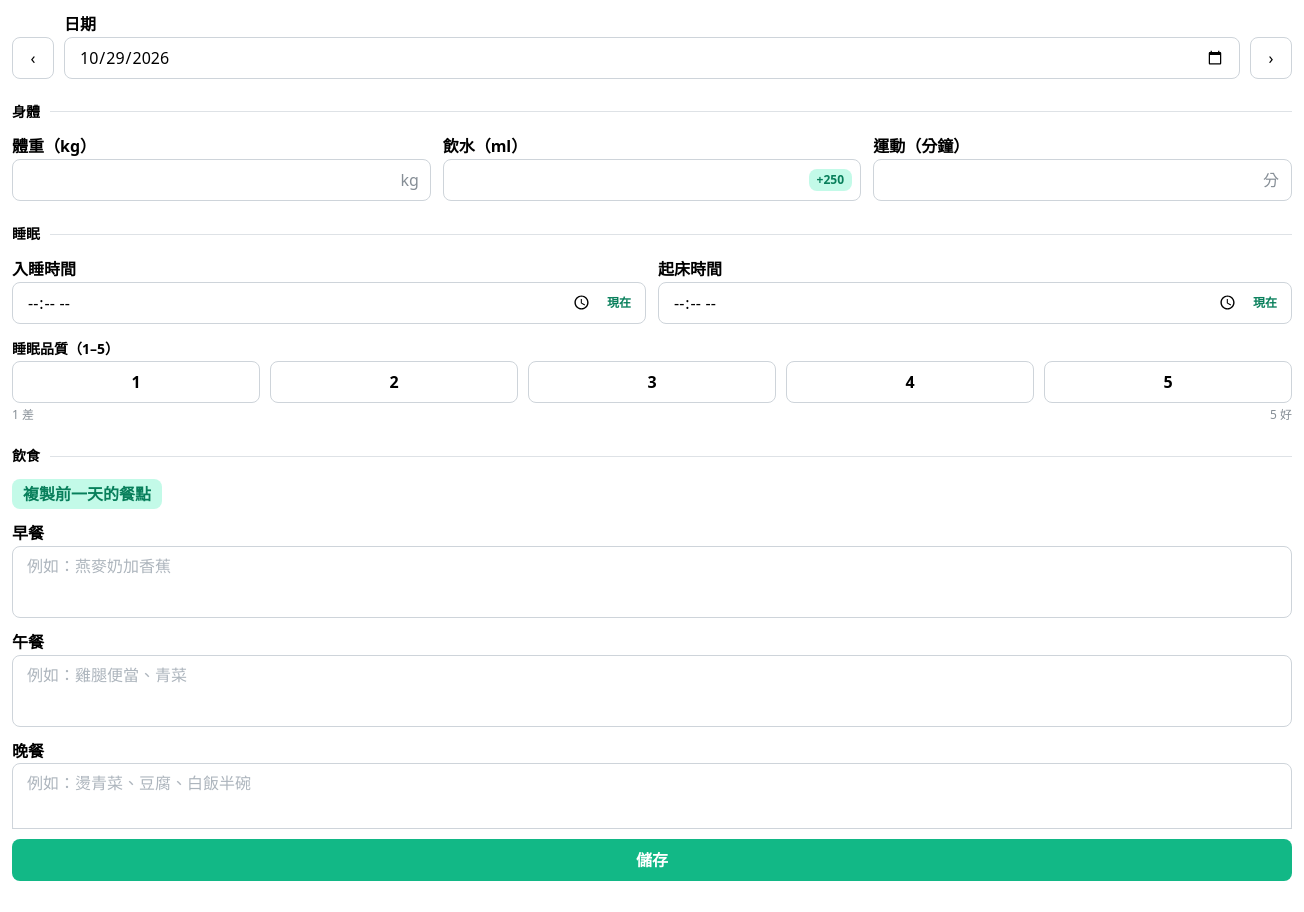
EntryForm：快速輸入 › 複製前一天的餐點 › 已經打了字的餐別不會被蓋掉
The image size is (1304, 912).
Type "今天的早餐" into the text box labelled "早餐".
click(652, 582); type("今天的早餐")  # box [12,546,1292,618]
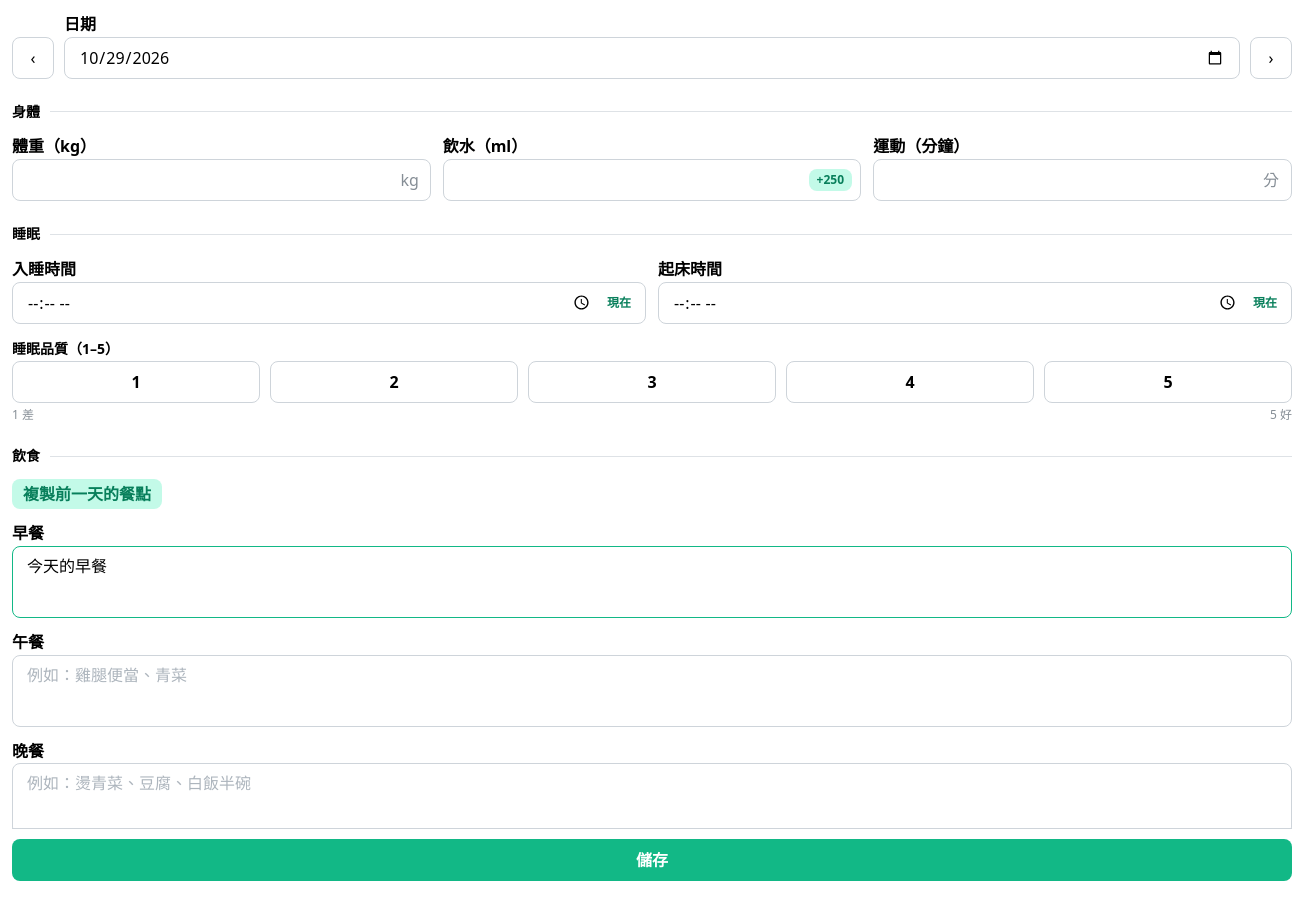
Click the button "複製前一天的餐點".
click(87, 494)  # box [12,479,162,509]
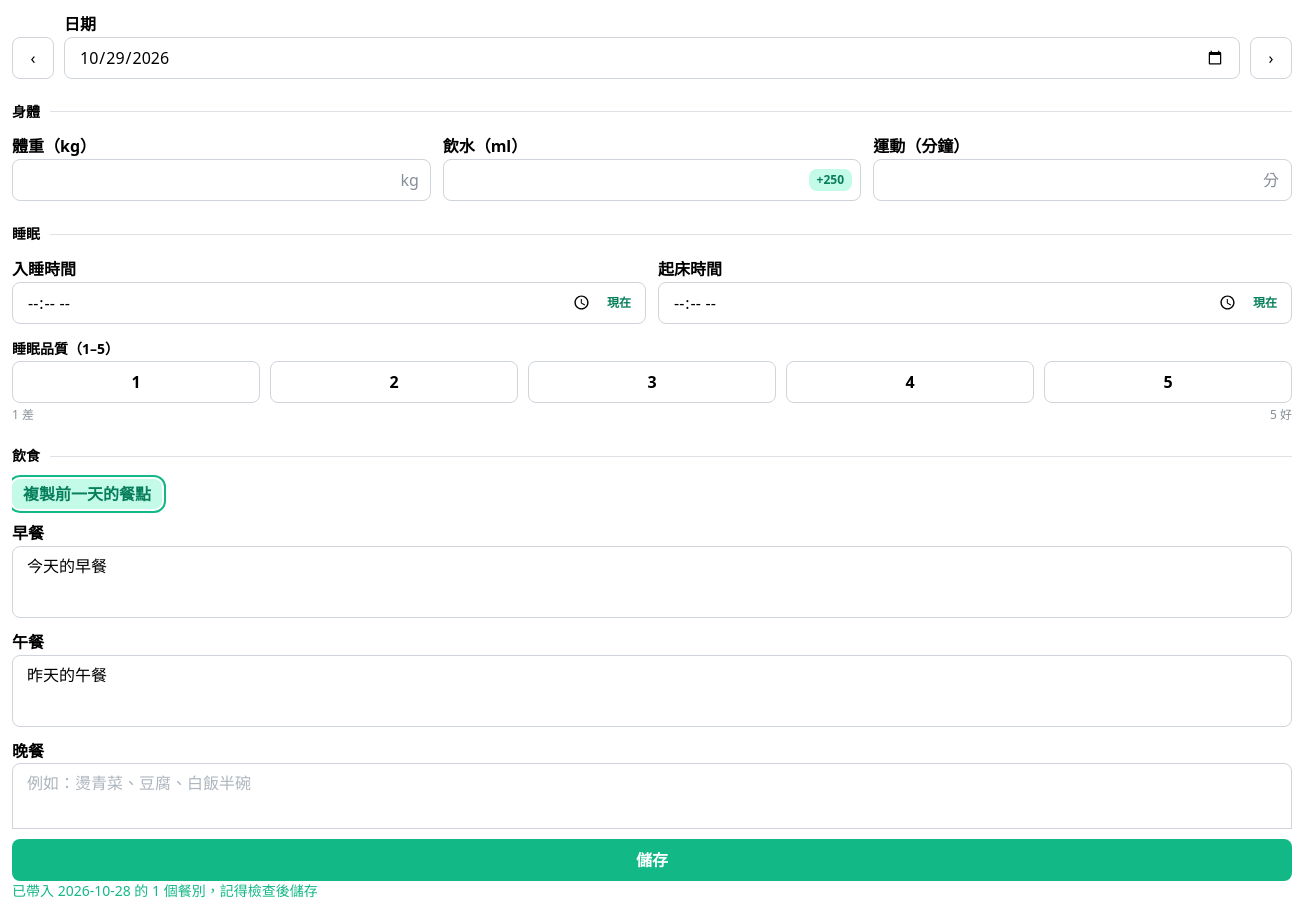
Expected: the text box labelled "午餐" holds "昨天的午餐", [12,655,1292,727]
Expected: the message shows "已帶入 2026-10-28 的 1 個餐別", [12,881,318,900]
